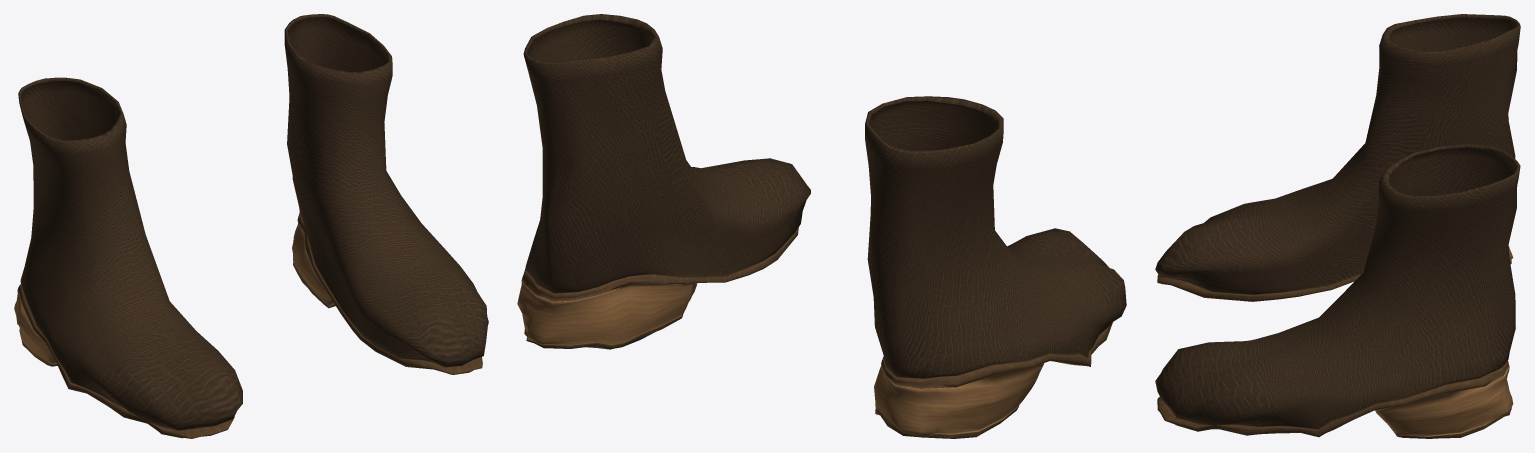
Rendered from shoes_ankle_boots.gltf.
3 renders of one model, left to right at view 1: azimuth 30°, elevation 25°; view 2: azimuth 150°, elevation 25°; view 3: azimuth 270°, elevation 25°, orthographic. The views are drawn at different scales.
Visible parts, largest first — view 1: shoes_ankle_boots; view 2: shoes_ankle_boots; view 3: shoes_ankle_boots.
Boxes of the visible parts, <box> form: shoes_ankle_boots: <box>14,14,488,438</box>; shoes_ankle_boots: <box>517,14,1126,438</box>; shoes_ankle_boots: <box>1155,14,1520,438</box>.
Bounding box in the file's own units: 0.3425 × 0.2007 × 0.2589.
Materials: 1 (1 with a texture image).
